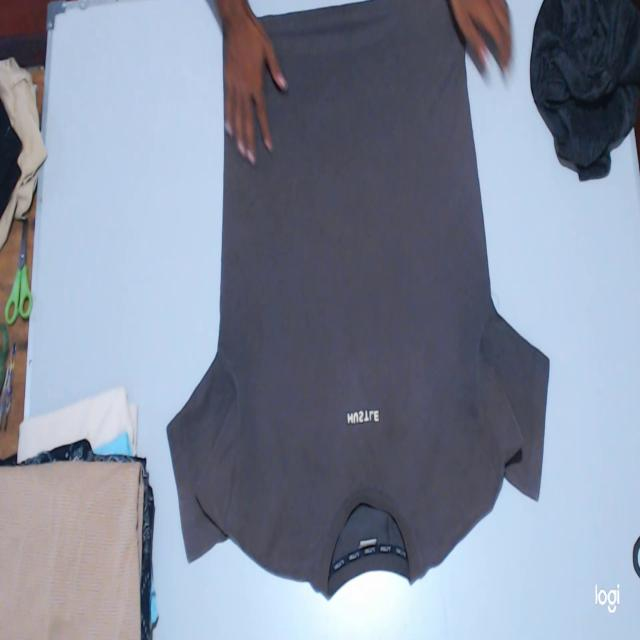new-garment: (168, 0, 548, 597)
